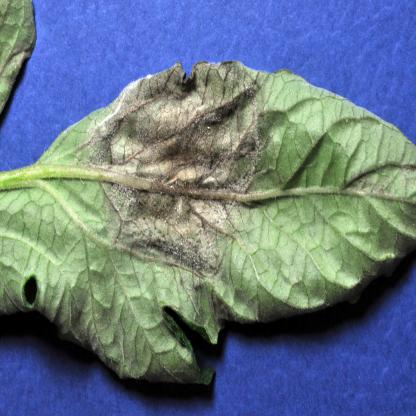Tomato leaf late blight: (3, 68, 416, 409)
